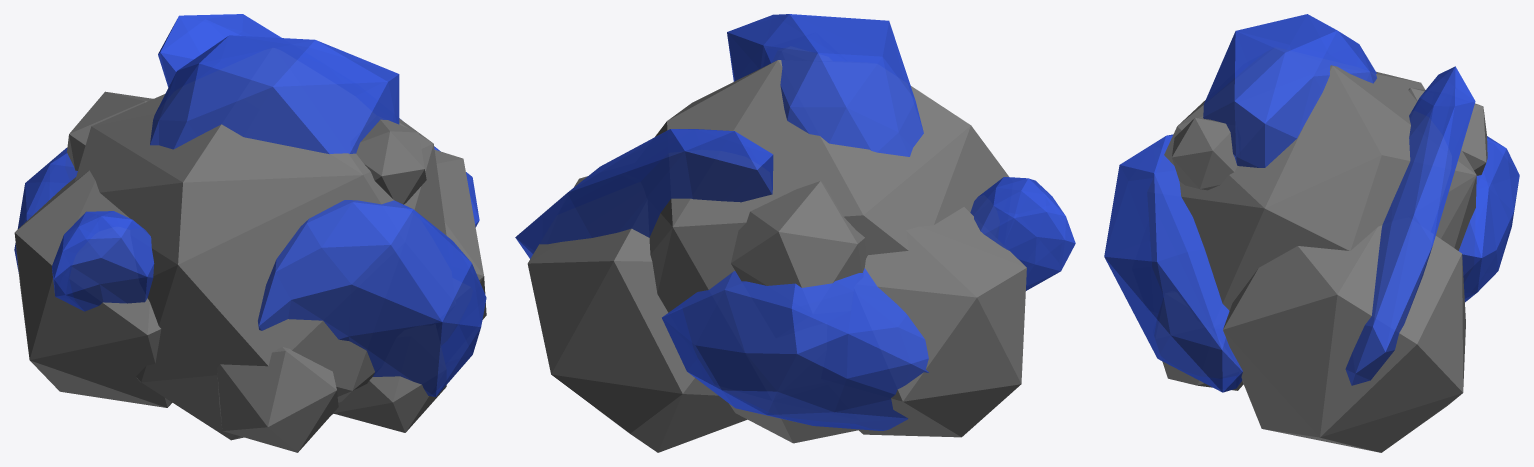
File: WindstoneOre.fbx
3 views of the same model, side by side, from view 1: azimuth 30°, elevation 25°; view 2: azimuth 150°, elevation 25°; view 3: azimuth 270°, elevation 25° (orthographic). The views are drawn at different scales.
Parts seen in each view (by area): view 1: WindstoneParticle.003; view 2: WindstoneParticle.003; view 3: WindstoneParticle.003.
Part boxes in pixels (left/top/right/bottom): WindstoneParticle.003: left=14, top=14, right=486, bottom=452; WindstoneParticle.003: left=515, top=14, right=1075, bottom=452; WindstoneParticle.003: left=1104, top=14, right=1519, bottom=452.
Bounding box in the file's own units: 2.96 × 2.39 × 2.45.
